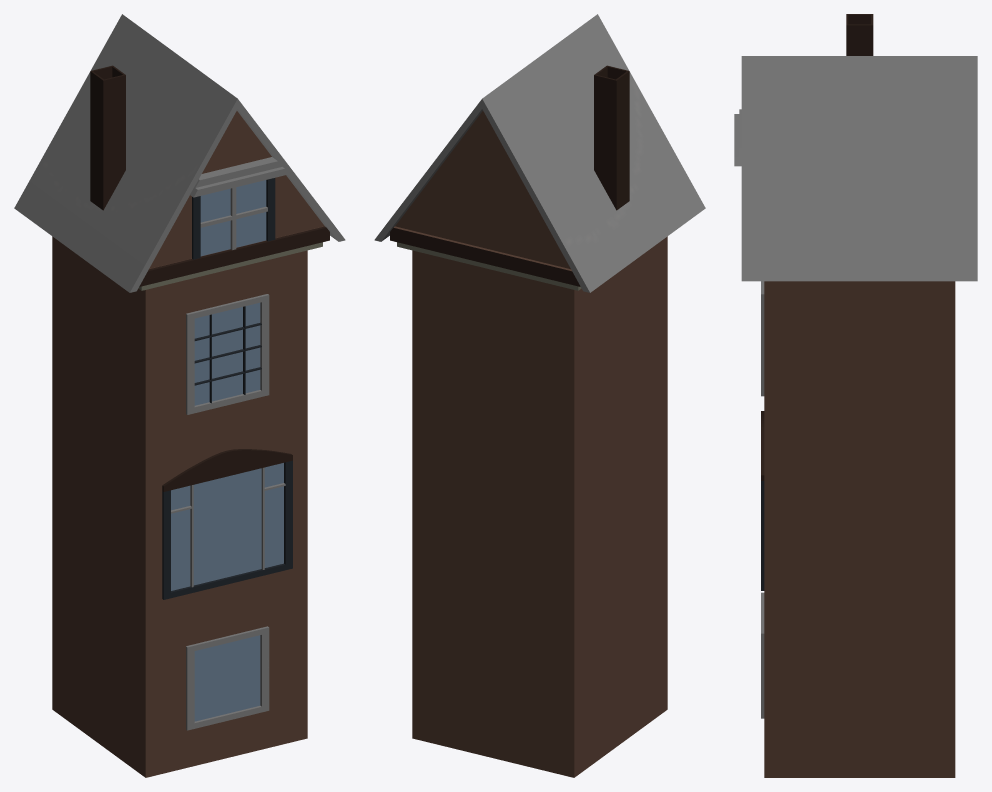
Rendered from House1Level3.fbx.
The picture shows the model from 3 angles, left to right: view 1: azimuth 30°, elevation 25°; view 2: azimuth 150°, elevation 25°; view 3: azimuth 270°, elevation 25°; orthographic projection. The views are drawn at different scales.
Visible parts, largest first — view 1: House1Lvl1.003; view 2: House1Lvl1.003; view 3: House1Lvl1.003.
Part boxes in pixels (x1,y1,x2,y2): House1Lvl1.003: [14, 14, 345, 777]; House1Lvl1.003: [374, 14, 705, 777]; House1Lvl1.003: [734, 14, 977, 777].
Bounding box in the file's own units: 59.34 × 175 × 56.77.
